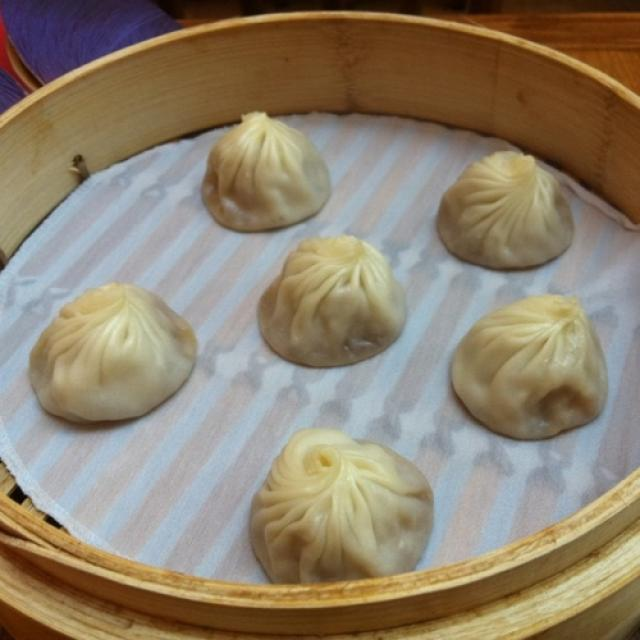带馅早点: (15, 45, 628, 599)
